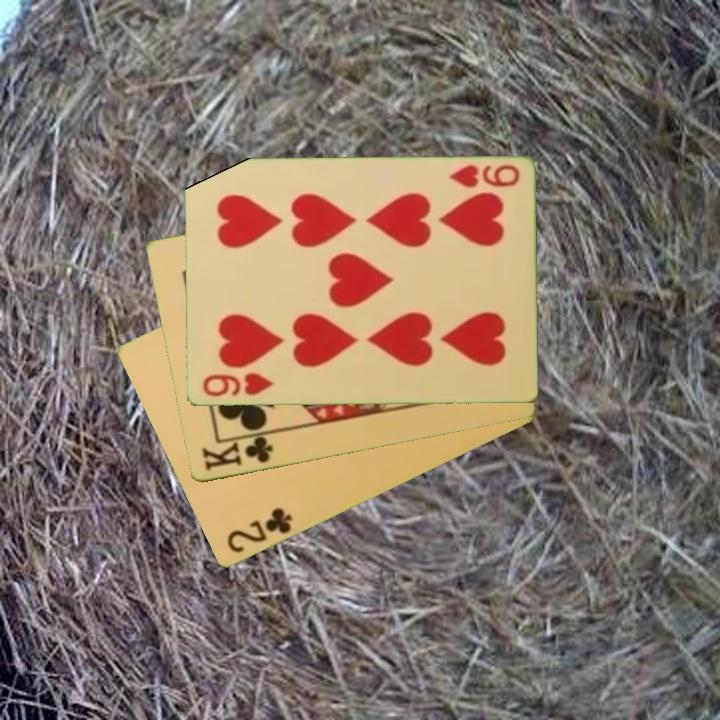2c: (223, 504, 295, 557)
9h: (199, 369, 276, 400), (445, 161, 522, 191)
Kc: (197, 430, 278, 475)
